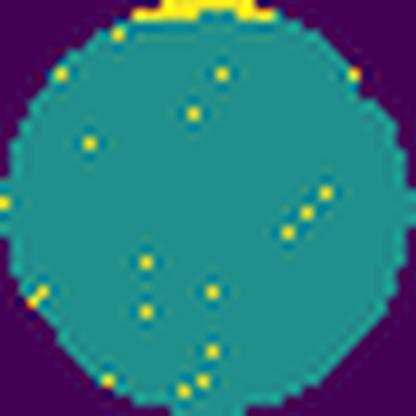Edge-Loc: (129, 0, 285, 25)
